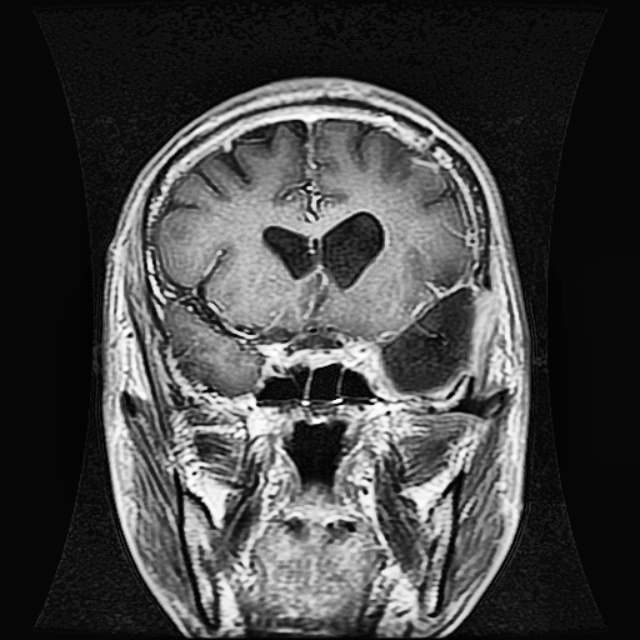Meningioma: (375, 284, 499, 397)
